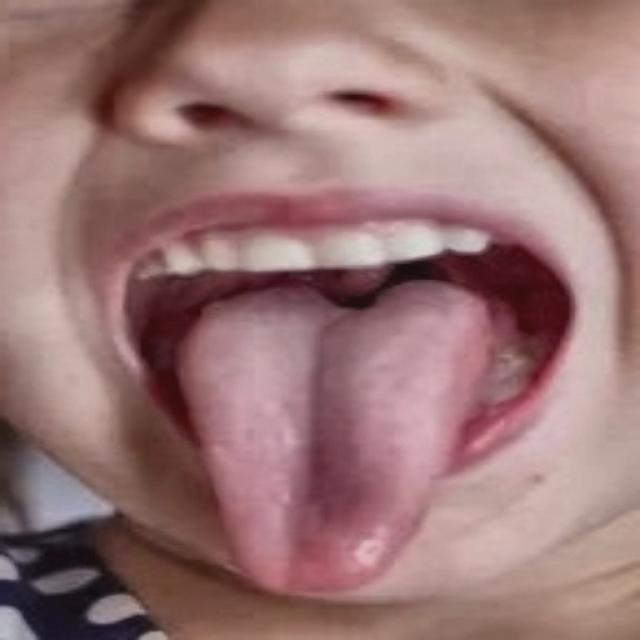processing_area: (173, 280, 514, 590)
